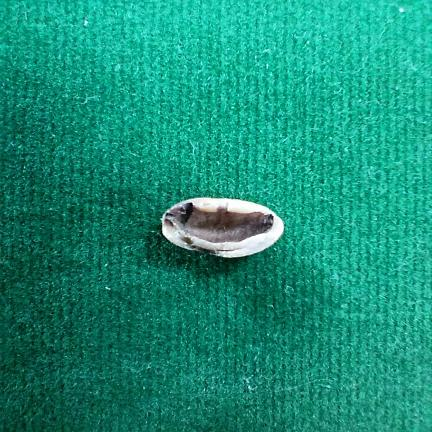shell: (162, 197, 283, 258)
